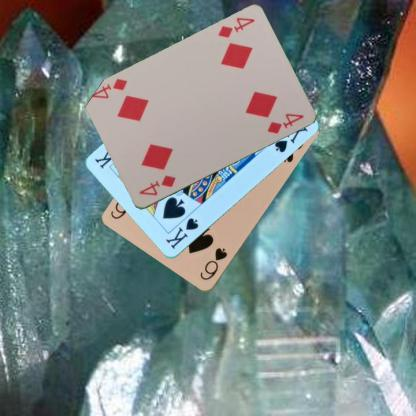4d: (136, 172, 178, 198), (215, 15, 256, 40)
6s: (197, 245, 229, 282)
Ks: (163, 216, 200, 250)
